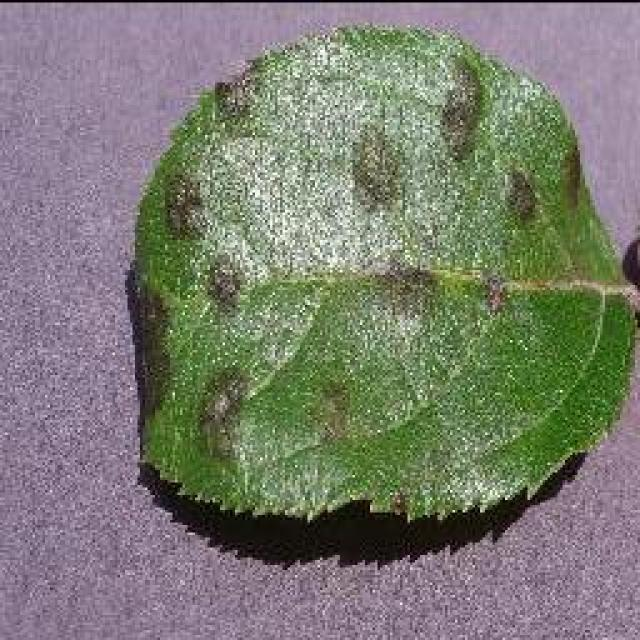apple scab disease: (122, 20, 638, 525)
